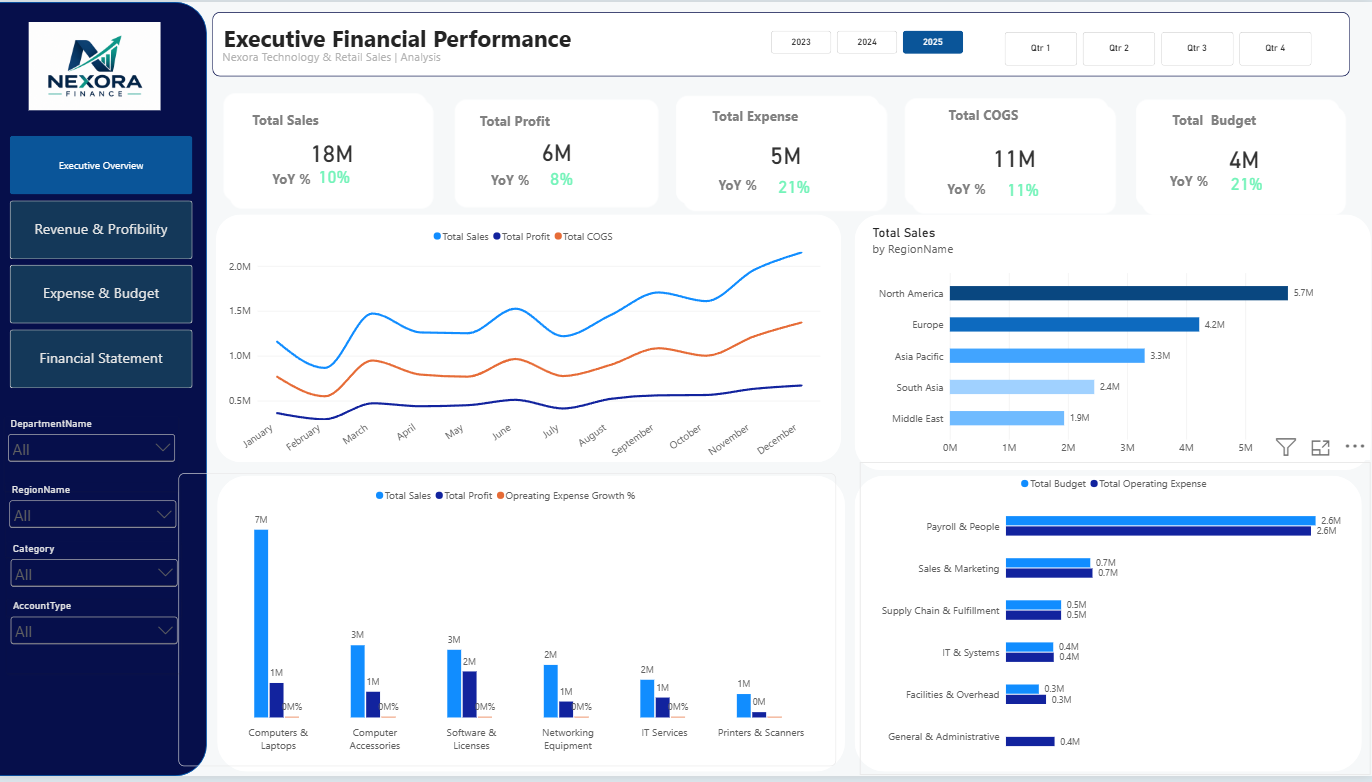

The page's visual inventory and layout, read from the dashboard file:
{"tool":"powerbi","page":{"name":"Executive Overview","canvas":[1920,1080],"ordinal":0},"visuals":[{"type":"shape","box":[0,0,294.2,1080.1],"z":0},{"type":"shape","box":[302.1,13.1,1587.5,90.1],"z":1000},{"type":"textbox","box":[316.7,27.1,780,76],"z":2000},{"type":"textbox","box":[316.5,64.4,779.6,39.3],"z":3000},{"type":"advanceCardE03760C5AB684758B56AA29F9E6C257B","title":"Total Sales","fields":{"mainMeasure":["Measure Table.Total Sales"]},"box":[317,126.9,284.3,150.2],"z":4000},{"type":"textbox","box":[347.4,141.3,207.4,60.8],"z":5000},{"type":"advanceCardE03760C5AB684758B56AA29F9E6C257B","fields":{"mainMeasure":["Measure Table.YoY %"]},"box":[391.4,202.7,141.2,65.1],"z":6000},{"type":"textbox","box":[375.1,224.4,159.3,59.7],"z":7000},{"type":"advanceCardE03760C5AB684758B56AA29F9E6C257B","title":"Total Sales","fields":{"mainMeasure":["Measure Table.Total Sales"]},"box":[327,136.9,284.3,150.2],"z":8000},{"type":"textbox","box":[357.4,151.3,207.4,60.8],"z":9000},{"type":"advanceCardE03760C5AB684758B56AA29F9E6C257B","fields":{"mainMeasure":["Measure Table.YoY %"]},"box":[401.4,212.7,141.2,65.1],"z":10000},{"type":"textbox","box":[385.1,234.4,159.3,59.7],"z":11000},{"type":"advanceCardE03760C5AB684758B56AA29F9E6C257B","title":"Total Sales","fields":{"mainMeasure":["Measure Table.Total Sales"]},"box":[633.7,128.6,284.3,150.2],"z":12000},{"type":"textbox","box":[664.1,142.9,207.4,60.8],"z":13000},{"type":"advanceCardE03760C5AB684758B56AA29F9E6C257B","fields":{"mainMeasure":["Measure Table.YoY %"]},"box":[708.1,204.3,141.2,65.1],"z":14000},{"type":"textbox","box":[681.9,216,159.3,59.7],"z":15000},{"type":"advanceCardE03760C5AB684758B56AA29F9E6C257B","title":"Total Sales","fields":{"mainMeasure":["Measure Table.Total Profit"]},"box":[640.6,135.7,284.1,150.2],"z":16000},{"type":"textbox","box":[674.1,152.9,207.4,60.8],"z":17000},{"type":"advanceCardE03760C5AB684758B56AA29F9E6C257B","fields":{"mainMeasure":["Measure Table.YoY Profit %"]},"box":[718.1,214.3,141.2,65.1],"z":18000},{"type":"textbox","box":[691.3,235.3,159.3,50.7],"z":19000},{"type":"advanceCardE03760C5AB684758B56AA29F9E6C257B","title":"Total Sales","fields":{"mainMeasure":["Measure Table.Total Sales"]},"box":[949.3,130.4,284.3,150.2],"z":20000},{"type":"textbox","box":[989.7,154.7,207.4,60.8],"z":21000},{"type":"advanceCardE03760C5AB684758B56AA29F9E6C257B","fields":{"mainMeasure":["Measure Table.YoY %"]},"box":[1033.7,216.2,141.2,65.1],"z":22000},{"type":"textbox","box":[997.4,217.9,159.3,59.7],"z":23000},{"type":"advanceCardE03760C5AB684758B56AA29F9E6C257B","title":"Total Sales","fields":{"mainMeasure":["Measure Table.Total Opreating Expense"]},"box":[959.3,140.4,284.3,150.2],"z":24000},{"type":"textbox","box":[998.9,146.6,208.1,52.5],"z":25000},{"type":"advanceCardE03760C5AB684758B56AA29F9E6C257B","fields":{"mainMeasure":["Measure Table.Opreating Expense Growth %"]},"box":[1043.7,226.2,141.2,65.1],"z":26000},{"type":"textbox","box":[1008,242.5,159.3,45.2],"z":27000},{"type":"advanceCardE03760C5AB684758B56AA29F9E6C257B","title":"Total Sales","fields":{"mainMeasure":["Measure Table.Total Sales"]},"box":[1268.2,134,284.3,150.2],"z":28000},{"type":"textbox","box":[1318.6,168.3,207.4,60.8],"z":29000},{"type":"advanceCardE03760C5AB684758B56AA29F9E6C257B","fields":{"mainMeasure":["Measure Table.YoY %"]},"box":[1352.6,219.7,141.2,65.1],"z":30000},{"type":"textbox","box":[1316.3,221.5,159.3,59.7],"z":31000},{"type":"advanceCardE03760C5AB684758B56AA29F9E6C257B","title":"Total Sales","fields":{"mainMeasure":["Measure Table.Total COGS"]},"box":[1278.2,144,284.3,150.2],"z":32000},{"type":"textbox","box":[1328.3,144.8,208.1,45.2],"z":33000},{"type":"advanceCardE03760C5AB684758B56AA29F9E6C257B","fields":{"mainMeasure":["Measure Table.YoY COGS %"]},"box":[1362.6,229.7,141.2,65.1],"z":34000},{"type":"textbox","box":[1326.5,247.9,159.3,43.4],"z":35000},{"type":"advanceCardE03760C5AB684758B56AA29F9E6C257B","title":"Total Sales","fields":{"mainMeasure":["Measure Table.Total Sales"]},"box":[1590.3,136,284.3,150.2],"z":36000},{"type":"textbox","box":[1630.7,160.3,207.4,60.8],"z":37000},{"type":"advanceCardE03760C5AB684758B56AA29F9E6C257B","fields":{"mainMeasure":["Measure Table.YoY %"]},"box":[1664.7,211.7,141.2,65.1],"z":38000},{"type":"textbox","box":[1628.4,213.4,159.3,59.7],"z":39000},{"type":"advanceCardE03760C5AB684758B56AA29F9E6C257B","title":"Total Sales","fields":{"mainMeasure":["Measure Table.Total Budget"]},"box":[1600.3,146,284.3,150.2],"z":40000},{"type":"textbox","box":[1641.4,152,206.3,47.1],"z":41000},{"type":"advanceCardE03760C5AB684758B56AA29F9E6C257B","fields":{"mainMeasure":["Measure Table.YoY Budget %"]},"box":[1674.7,221.7,141.2,65.1],"z":42000},{"type":"textbox","box":[1637.7,237.1,159.3,45.2],"z":43000},{"type":"advancedSlicerVisual","fields":{"Values":["Dataset_DimDate.Date.Variation.Date Hierarchy.Year"]},"box":[1082.2,39.8,269.6,32.6],"z":44000},{"type":"shape","box":[307.6,296.8,872.3,345.6],"z":45000},{"type":"lineChart","fields":{"Category":["Dataset_DimDate.Date.Variation.Date Hierarchy.Month"],"Y":["Measure Table.Total Sales","Measure Table.Total Profit","Measure Table.Total COGS"]},"box":[309.5,296.8,857.8,372.8],"z":46000},{"type":"shape","box":[1198,296.8,720.2,356.5],"z":47000},{"type":"barChart","fields":{"Category":["Dataset_DimRegion.RegionName"],"Y":["Measure Table.Total Sales"]},"box":[1207,296.8,658.7,356.5],"z":48000},{"type":"shape","box":[1198,660.5,707.6,412.6],"z":49000},{"type":"clusteredBarChart","fields":{"Category":["Dataset_DimAccount.AccountGroup"],"Y":["Measure Table.Total Budget","Measure Table.Total Opreating Expense"]},"box":[1205.1,641.9,713.4,438.1],"z":50000},{"type":"shape","box":[309.5,660.5,875.9,412.6],"z":51000},{"type":"clusteredColumnChart","fields":{"Category":["Dataset_DimProduct.Category"],"Y":["Measure Table.Total Sales","Measure Table.Total Profit","Measure Table.Opreating Expense Growth %"]},"box":[255.2,656.9,917.5,409],"z":52000},{"type":"image","box":[0,27.1,275.1,123.1],"z":53000},{"type":"slicer","fields":{"Values":["Dataset_DimDepartment.DepartmentName"]},"box":[12.7,579,242.5,103.2],"z":54000},{"type":"slicer","fields":{"Values":["Dataset_DimRegion.RegionName"]},"box":[14.5,671.2,242.5,103.2],"z":55000},{"type":"slicer","fields":{"Values":["Dataset_DimProduct.Category"]},"box":[16.3,752.7,242.5,103.2],"z":56000},{"type":"slicer","fields":{"Values":["Dataset_DimAccount.AccountType"]},"box":[16.3,834.1,242.5,103.2],"z":57000},{"type":"pageNavigator","box":[18.9,187.1,255.1,353.3],"z":58000},{"type":"advancedSlicerVisual","fields":{"Values":["Dataset_DimDate.Date.Variation.Date Hierarchy.Quarter"]},"box":[1407.7,41.6,430.8,47.2],"z":58001}]}

Visuals, with their boxes in screenshot pixels (x1, y1, x2, y2), scaled from the page's 1920x1080 canvas onto the 1372x782 screenshot:
shape: bbox(0, 0, 210, 781)
shape: bbox(216, 9, 1350, 75)
textbox: bbox(226, 20, 784, 75)
textbox: bbox(226, 47, 783, 75)
"Total Sales" advanceCardE03760C5AB684758B56AA29F9E6C257B: bbox(227, 92, 430, 201)
textbox: bbox(248, 102, 396, 146)
advanceCardE03760C5AB684758B56AA29F9E6C257B - Measure Table.YoY %: bbox(280, 147, 381, 194)
textbox: bbox(268, 162, 382, 206)
"Total Sales" advanceCardE03760C5AB684758B56AA29F9E6C257B: bbox(234, 99, 437, 208)
textbox: bbox(255, 110, 404, 154)
advanceCardE03760C5AB684758B56AA29F9E6C257B - Measure Table.YoY %: bbox(287, 154, 388, 201)
textbox: bbox(275, 170, 389, 213)
"Total Sales" advanceCardE03760C5AB684758B56AA29F9E6C257B: bbox(453, 93, 656, 202)
textbox: bbox(475, 103, 623, 147)
advanceCardE03760C5AB684758B56AA29F9E6C257B - Measure Table.YoY %: bbox(506, 148, 607, 195)
textbox: bbox(487, 156, 601, 200)
"Total Sales" advanceCardE03760C5AB684758B56AA29F9E6C257B: bbox(458, 98, 661, 207)
textbox: bbox(482, 111, 630, 155)
advanceCardE03760C5AB684758B56AA29F9E6C257B - Measure Table.YoY Profit %: bbox(513, 155, 614, 202)
textbox: bbox(494, 170, 608, 207)
"Total Sales" advanceCardE03760C5AB684758B56AA29F9E6C257B: bbox(678, 94, 882, 203)
textbox: bbox(707, 112, 855, 156)
advanceCardE03760C5AB684758B56AA29F9E6C257B - Measure Table.YoY %: bbox(739, 157, 840, 204)
textbox: bbox(713, 158, 827, 201)
"Total Sales" advanceCardE03760C5AB684758B56AA29F9E6C257B: bbox(685, 102, 889, 210)
textbox: bbox(714, 106, 863, 144)
advanceCardE03760C5AB684758B56AA29F9E6C257B - Measure Table.Opreating Expense Growth %: bbox(746, 164, 847, 211)
textbox: bbox(720, 176, 834, 208)
"Total Sales" advanceCardE03760C5AB684758B56AA29F9E6C257B: bbox(906, 97, 1109, 206)
textbox: bbox(942, 122, 1090, 166)
advanceCardE03760C5AB684758B56AA29F9E6C257B - Measure Table.YoY %: bbox(967, 159, 1067, 206)
textbox: bbox(941, 160, 1054, 204)
"Total Sales" advanceCardE03760C5AB684758B56AA29F9E6C257B: bbox(913, 104, 1117, 213)
textbox: bbox(949, 105, 1098, 138)
advanceCardE03760C5AB684758B56AA29F9E6C257B - Measure Table.YoY COGS %: bbox(974, 166, 1075, 213)
textbox: bbox(948, 179, 1062, 211)
"Total Sales" advanceCardE03760C5AB684758B56AA29F9E6C257B: bbox(1136, 98, 1340, 207)
textbox: bbox(1165, 116, 1313, 160)
advanceCardE03760C5AB684758B56AA29F9E6C257B - Measure Table.YoY %: bbox(1190, 153, 1290, 200)
textbox: bbox(1164, 155, 1277, 198)
"Total Sales" advanceCardE03760C5AB684758B56AA29F9E6C257B: bbox(1144, 106, 1347, 214)
textbox: bbox(1173, 110, 1320, 144)
advanceCardE03760C5AB684758B56AA29F9E6C257B - Measure Table.YoY Budget %: bbox(1197, 161, 1298, 208)
textbox: bbox(1170, 172, 1284, 204)
advancedSlicerVisual - Dataset_DimDate.Date.Variation.Date Hierarchy.Year: bbox(773, 29, 966, 52)
shape: bbox(220, 215, 843, 465)
lineChart - Dataset_DimDate.Date.Variation.Date Hierarchy.Month x Measure Table.Total Sales: bbox(221, 215, 834, 485)
shape: bbox(856, 215, 1371, 473)
barChart - Dataset_DimRegion.RegionName x Measure Table.Total Sales: bbox(863, 215, 1333, 473)
shape: bbox(856, 478, 1362, 777)
clusteredBarChart - Dataset_DimAccount.AccountGroup x Measure Table.Total Budget: bbox(861, 465, 1371, 781)
shape: bbox(221, 478, 847, 777)
clusteredColumnChart - Dataset_DimProduct.Category x Measure Table.Total Sales: bbox(182, 476, 838, 772)
image: bbox(0, 20, 197, 109)
slicer - Dataset_DimDepartment.DepartmentName: bbox(9, 419, 182, 494)
slicer - Dataset_DimRegion.RegionName: bbox(10, 486, 184, 561)
slicer - Dataset_DimProduct.Category: bbox(12, 545, 185, 620)
slicer - Dataset_DimAccount.AccountType: bbox(12, 604, 185, 679)
pageNavigator: bbox(14, 135, 196, 391)
advancedSlicerVisual - Dataset_DimDate.Date.Variation.Date Hierarchy.Quarter: bbox(1006, 30, 1314, 64)
